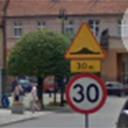speed_limit_30: (66, 73, 108, 116)
